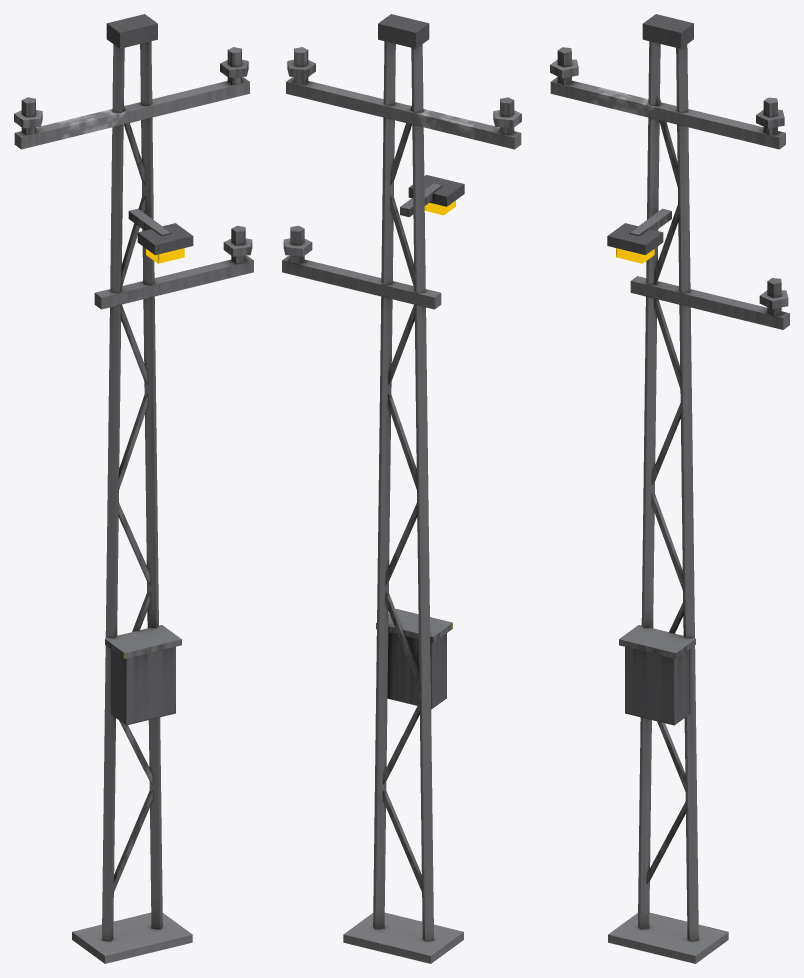
File: nodexeus-set-mast-2.glb
The picture shows the model from 3 angles, left to right: view 1: azimuth 30°, elevation 25°; view 2: azimuth 150°, elevation 25°; view 3: azimuth 330°, elevation 25°; orthographic projection.
Visible parts, largest first — view 1: set-mast-2; view 2: set-mast-2; view 3: set-mast-2.
Part boxes in pixels (left/top/right/bottom): set-mast-2: left=14, top=14, right=253, bottom=963; set-mast-2: left=282, top=14, right=521, bottom=963; set-mast-2: left=550, top=14, right=789, bottom=963.
Size of the model in its own units: 1.23 by 4.6 by 0.53.
Materials: 1 (1 with a texture image).
